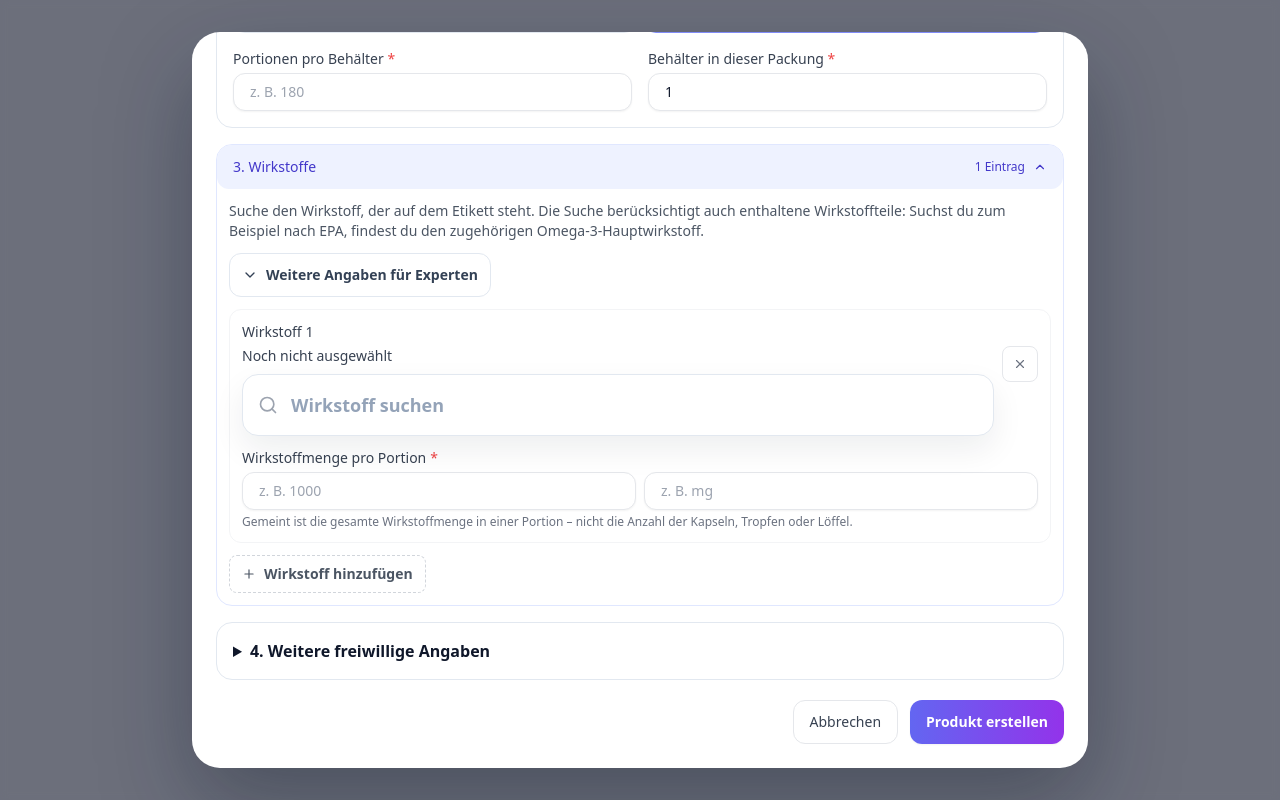
Test: UserProductForm sub-ingredient roundtrip › zeigt Feldfehler direkt und setzt den Fokus auf das erste unvollständige Feld
(page scrolled)
Click the button "Produkt erstellen".
click(987, 722)  # box 910,700 -> 1064,744
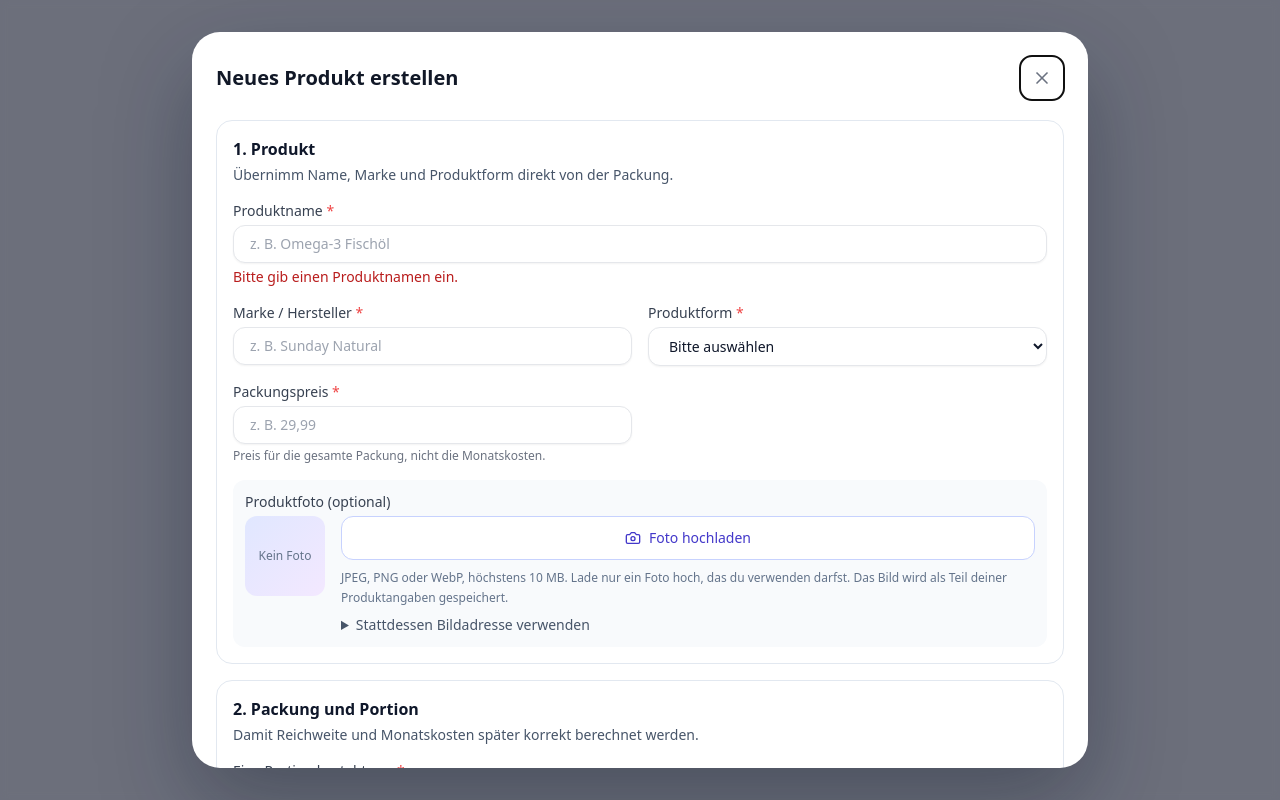
Check: the text "Bitte gib einen Produktnamen ein." is shown, box 233,267 -> 458,286
